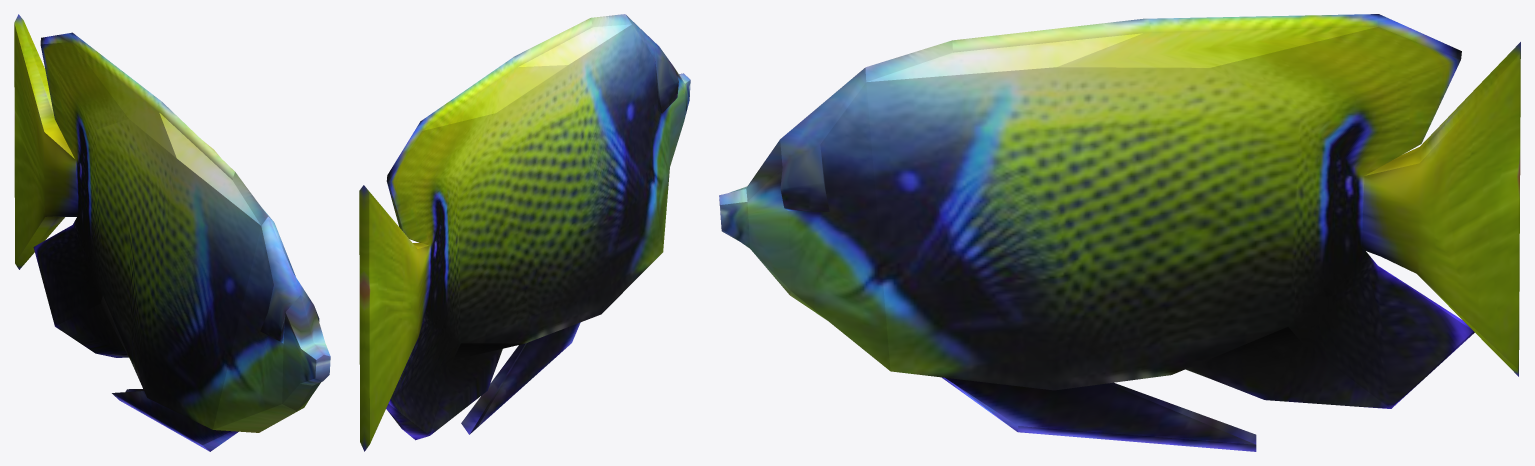
File: yellowfish.fbx
3 views of the same model, side by side, from view 1: azimuth 30°, elevation 25°; view 2: azimuth 150°, elevation 25°; view 3: azimuth 270°, elevation 25° (orthographic). The views are drawn at different scales.
Visible parts, largest first — view 1: tropicalFishMaya2008:yellowfish1; view 2: tropicalFishMaya2008:yellowfish1; view 3: tropicalFishMaya2008:yellowfish1.
Part boxes in pixels (box(x1,y1,x2,y2)): tropicalFishMaya2008:yellowfish1: box(14, 14, 330, 451); tropicalFishMaya2008:yellowfish1: box(359, 14, 690, 451); tropicalFishMaya2008:yellowfish1: box(719, 14, 1520, 451).
Bounding box in the file's own units: 4.13 × 13.44 × 22.3.
